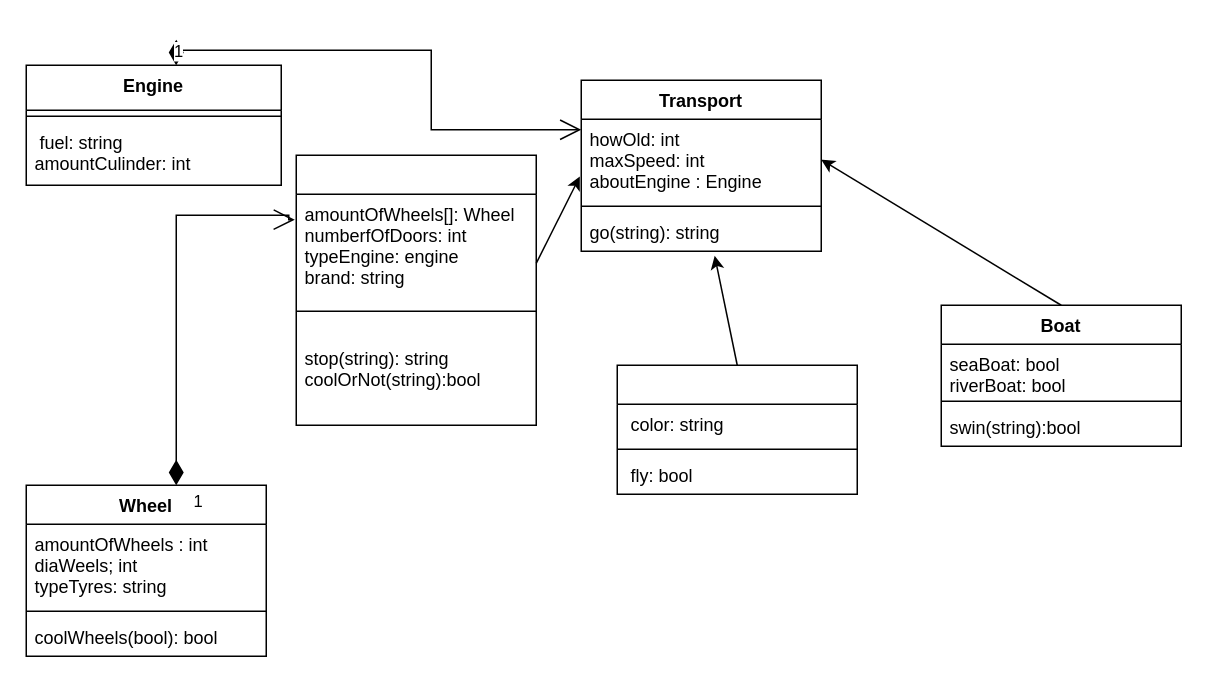
Image size: 1208x687. Some labels were removed from this diagram. Each missing label, with the box of its shape:
Airpalne: (616, 364, 857, 494)
Car: (295, 154, 536, 425)
